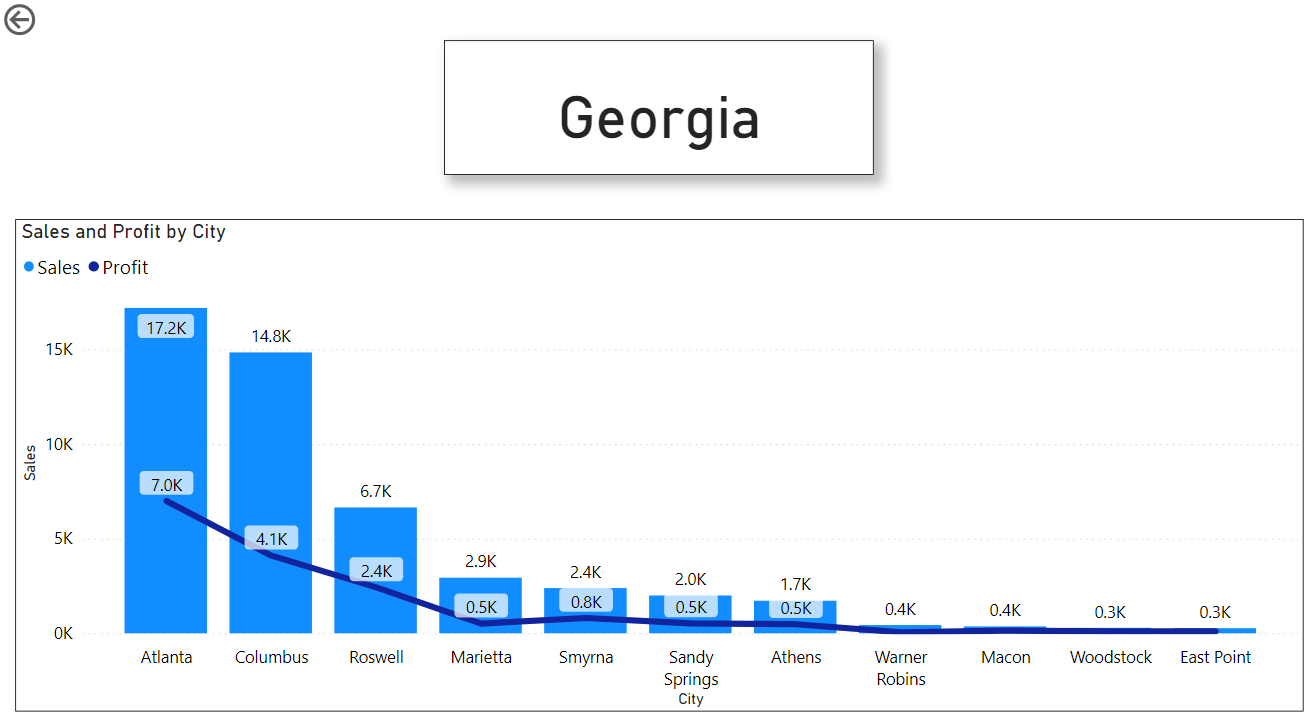

Layout of this report page (visuals, bound fields, positions):
{"tool":"powerbi","page":{"name":"State wise Sales and Profit","canvas":[1280,720],"ordinal":3},"visuals":[{"type":"card","fields":{"Values":["Min(SampleSuperstore.State)"]},"box":[431.1,40,416.3,130.4],"z":0},{"type":"lineStackedColumnComboChart","fields":{"Y":["Sum(SampleSuperstore.Sales)"],"Y2":["Sum(SampleSuperstore.Profit)"],"Category":["SampleSuperstore.City"]},"box":[16.3,213.3,1247.4,477],"z":1000},{"type":"actionButton","box":[0,0,100.7,40],"z":2000}]}

Visuals, with their boxes in screenshot pixels (x1, y1, x2, y2), scaled from the page's 1280x720 canvas onto the 1313x723 screenshot:
card - Min(SampleSuperstore.State): [left=442, top=40, right=869, bottom=171]
lineStackedColumnComboChart - Sum(SampleSuperstore.Sales) x Sum(SampleSuperstore.Profit): [left=17, top=214, right=1296, bottom=693]
actionButton: [left=0, top=0, right=103, bottom=40]
